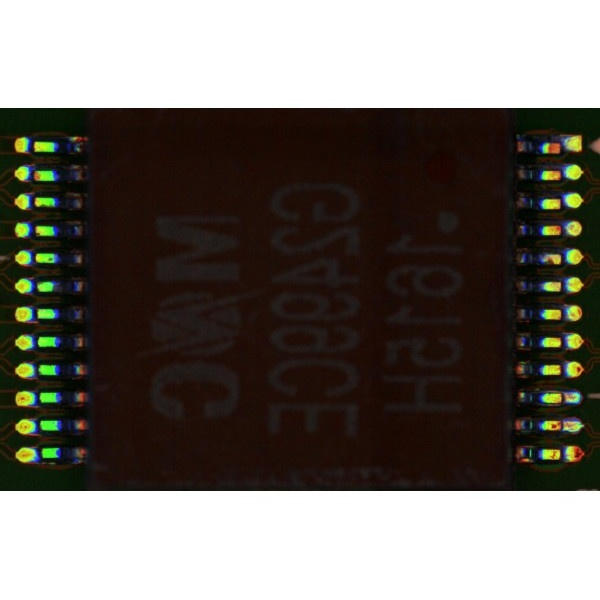Bad_podu: (551, 420, 573, 428), (552, 395, 575, 401)
